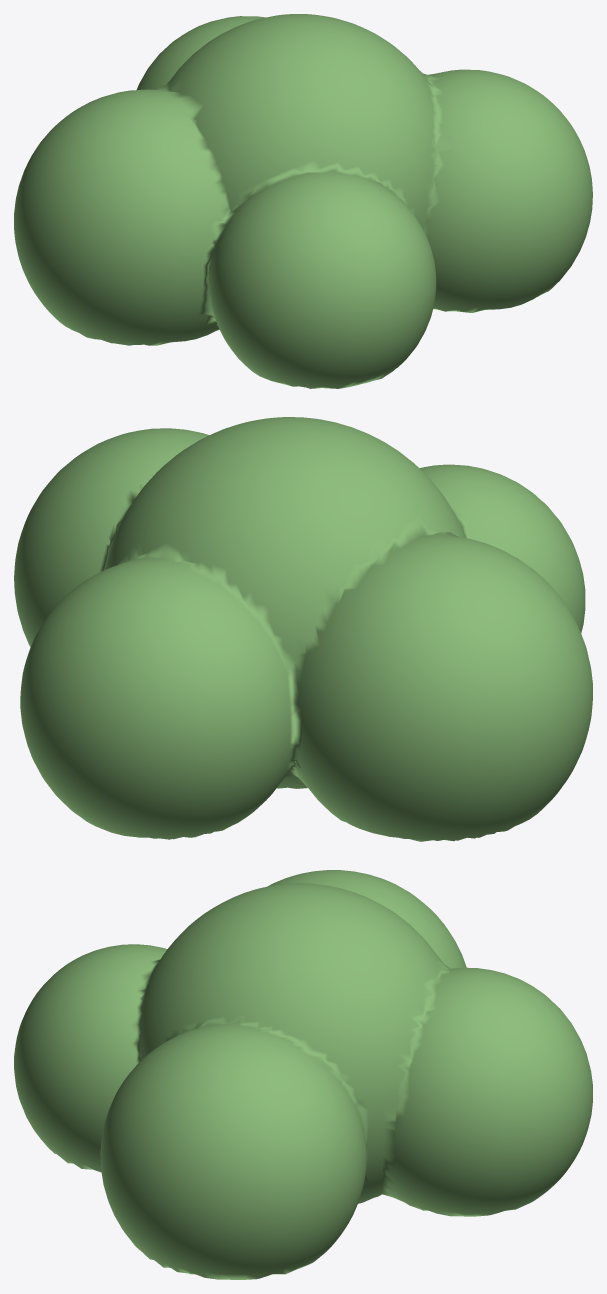
The model's file is bush.glb.
3 renders of one model, top to bottom at view 1: azimuth 30°, elevation 25°; view 2: azimuth 150°, elevation 25°; view 3: azimuth 270°, elevation 25°, orthographic. The views are drawn at different scales.
Visible parts, largest first — view 1: IronSmith model; view 2: IronSmith model; view 3: IronSmith model.
Boxes of the visible parts, x1=… form: IronSmith model: x1=14, y1=14, x2=592, y2=388; IronSmith model: x1=14, y1=417, x2=592, y2=841; IronSmith model: x1=14, y1=870, x2=592, y2=1279.
Size of the model in its own units: 18.19 by 9 by 17.39.
